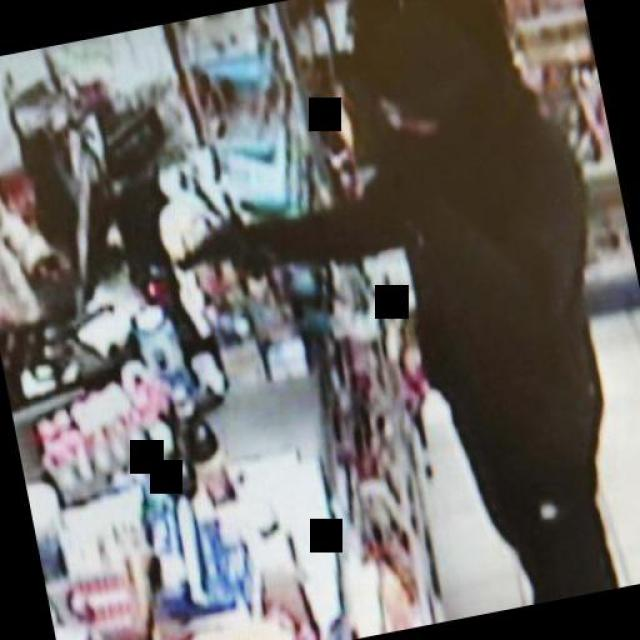gun: (164, 208, 258, 308)
